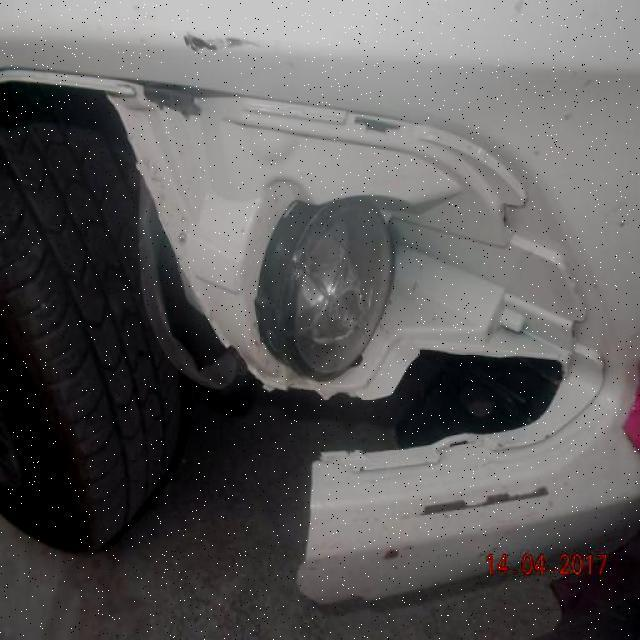car damage: (120, 79, 628, 612), (178, 23, 263, 60)
